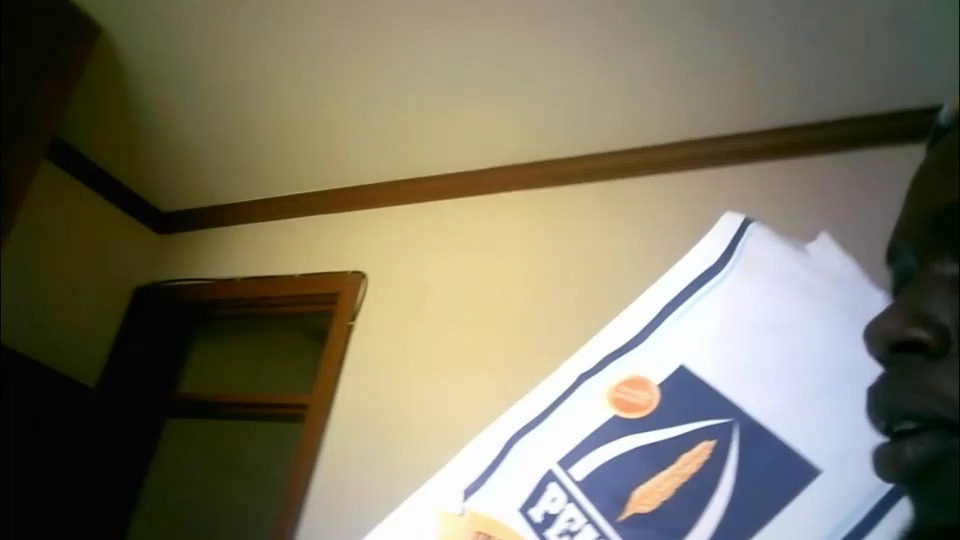wheat_flour_blue_label: (365, 214, 912, 540)
